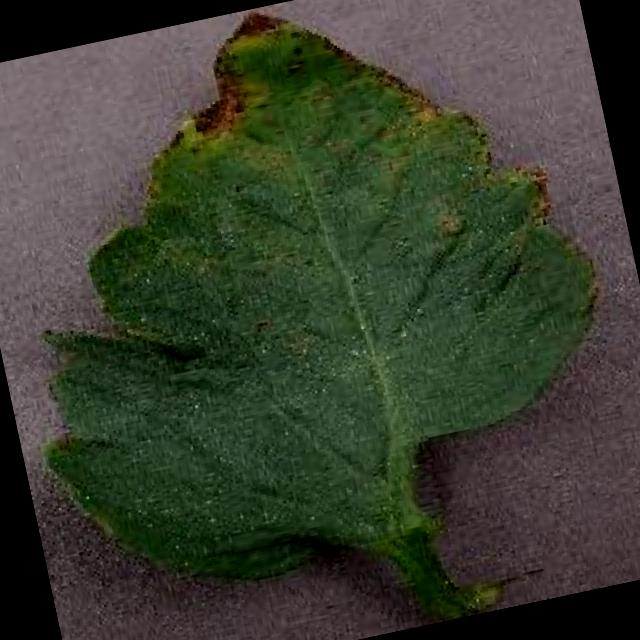bacterial spot: (32, 14, 606, 615)
